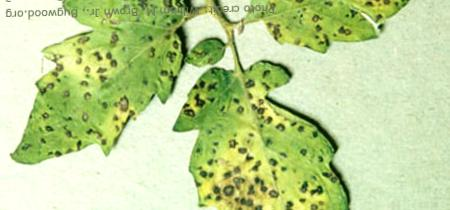Tomato leaf bacterial spot: (5, 3, 188, 168), (170, 54, 357, 209), (255, 0, 417, 58)
